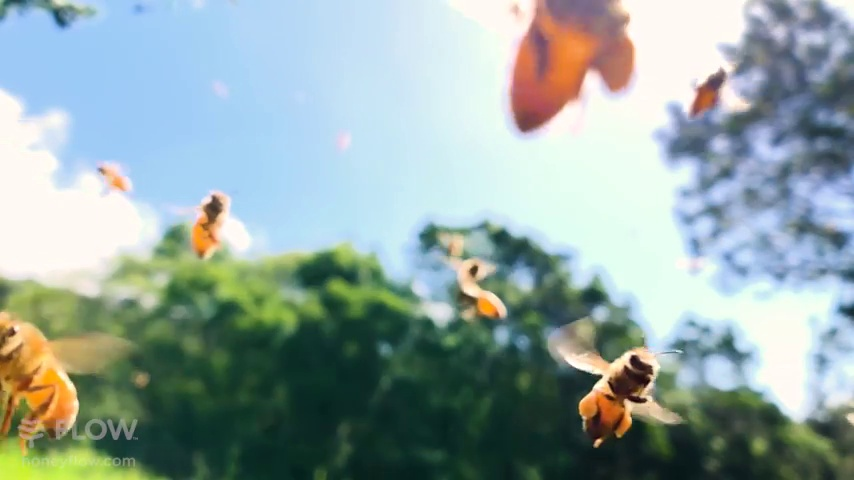insect: (507, 0, 636, 138), (546, 317, 684, 443), (0, 312, 84, 448), (182, 192, 244, 262), (687, 64, 726, 125)
